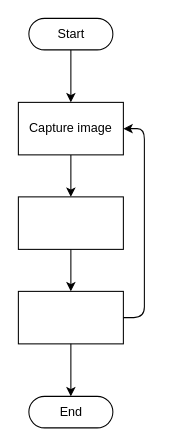
Image size: 171x446. Some labels were removed from this diagram. The box of each missing label's shape, as (x1, y1, x2, y2) in pixels:
Draw box around dart: (17, 196, 123, 249)
Save dart view: (17, 290, 123, 344)
